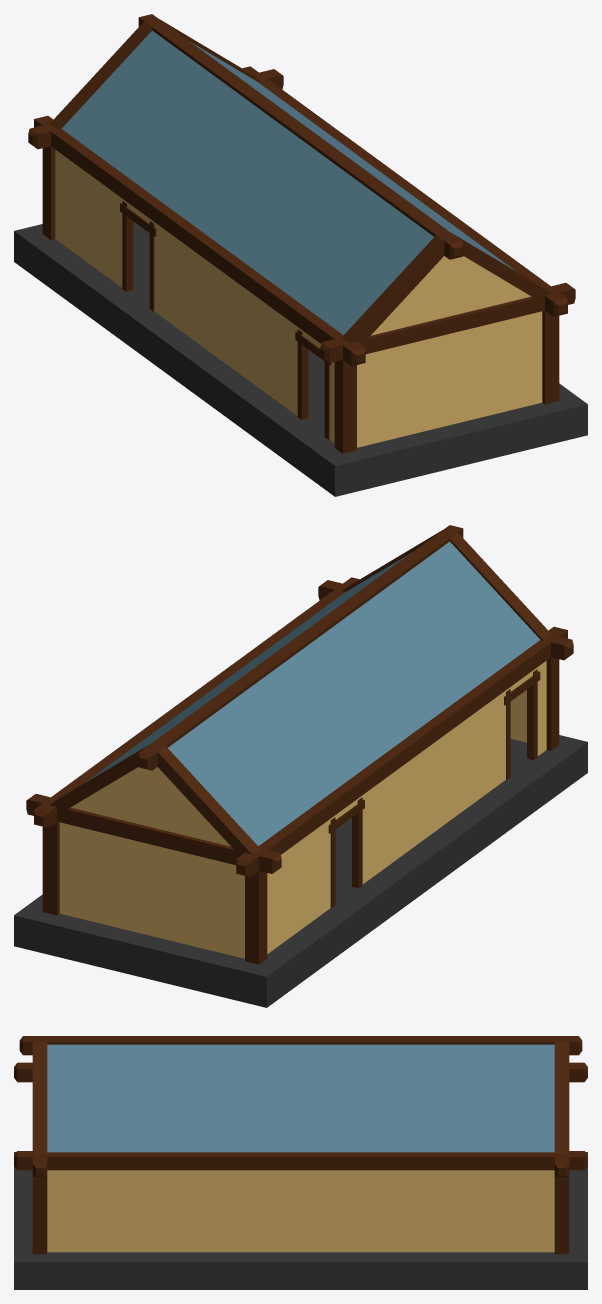
Rendered from MBS_City_PeasantHut_01.fbx.
3 renders of one model, top to bottom at view 1: azimuth 30°, elevation 25°; view 2: azimuth 150°, elevation 25°; view 3: azimuth 270°, elevation 25°, orthographic. The views are drawn at different scales.
Parts seen in each view (by area): view 1: Cube.846; view 2: Cube.846; view 3: Cube.846.
Boxes of the visible parts, x1=… form: Cube.846: x1=14, y1=14, x2=587, y2=496; Cube.846: x1=14, y1=525, x2=587, y2=1007; Cube.846: x1=14, y1=1036, x2=587, y2=1289.
Size of the model in its own units: 1000 by 828 by 2200.
